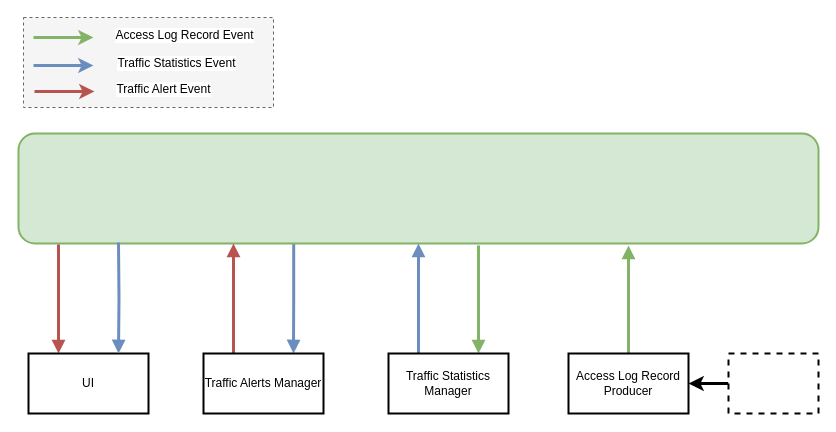
The diagram is 836 pixels wide and 432 high, and some of its shapes have lost their labels. Each missing label, with the box of its shape:
Event Bus: (17, 132, 819, 244)
File Watcher: (727, 352, 819, 414)
